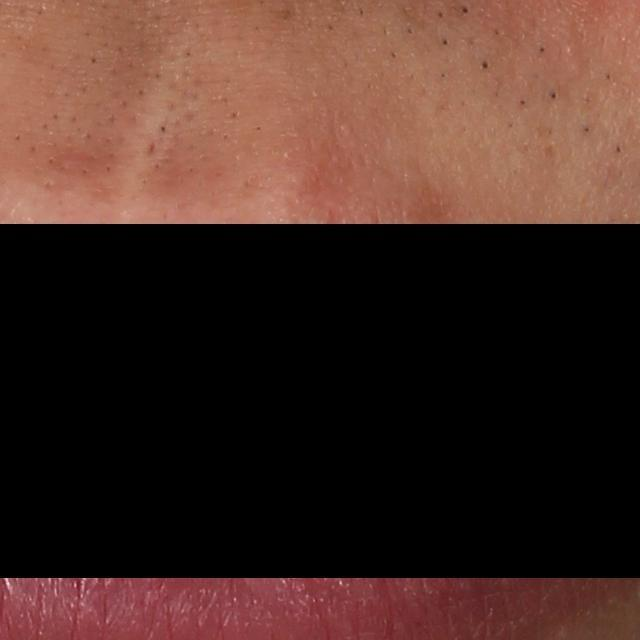other: (114, 22, 205, 200)
